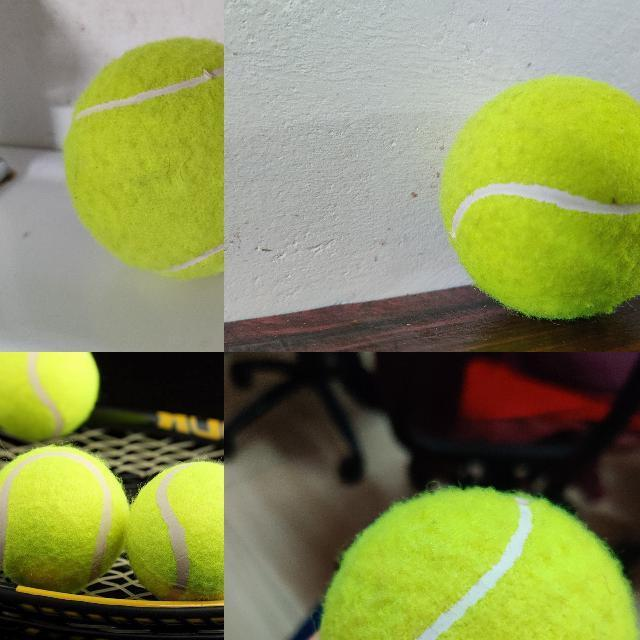tennis-ball: (438, 73, 639, 321), (321, 490, 637, 639), (60, 36, 223, 282), (0, 443, 130, 593), (127, 461, 223, 600), (0, 352, 100, 440)
